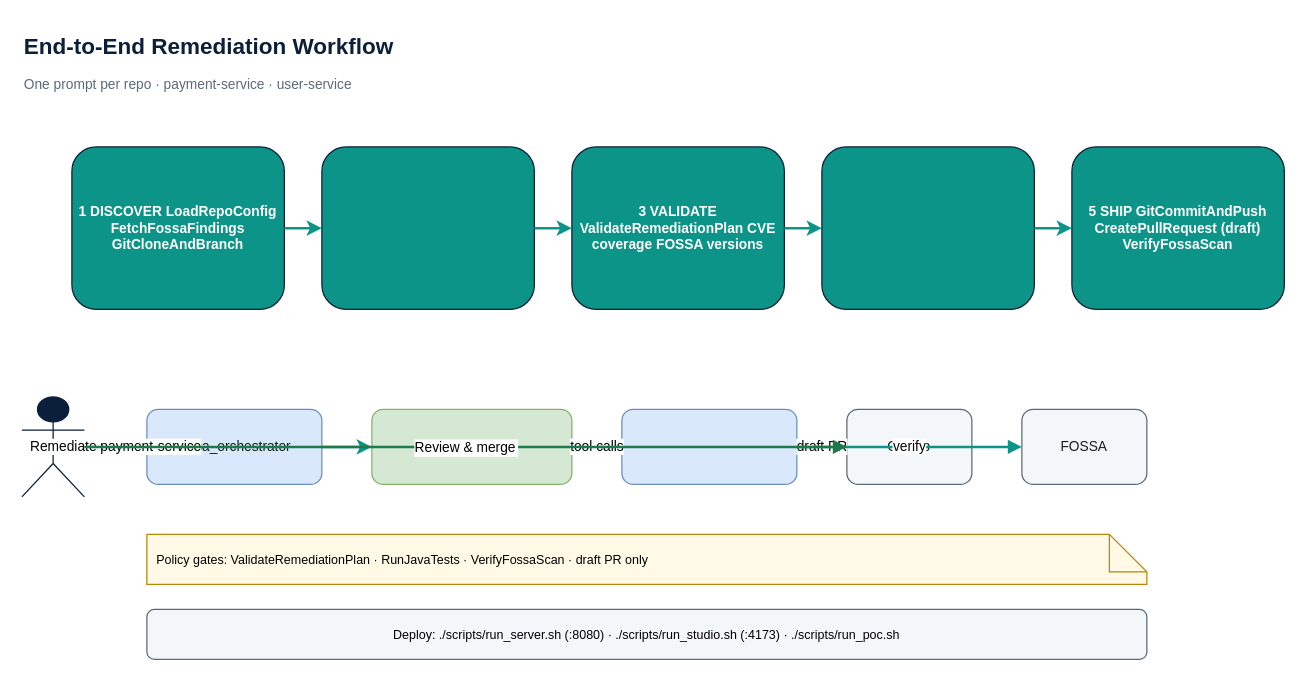
Some shapes in this 1306 by 681 pixel diagram are drawn without their labels. The shapes that lost their labels are listed below. From the top down, each one's centre as x and y in pixels, then its label:
At (x=427, y=227): "2 PLAN PrepareContext FetchDependencyTree SubmitRemediationPlan".
At (x=927, y=227): "4 EXECUTE ApplyDependencyFix CompileJava · RunJavaTests Self-heal (max 3)".
At (x=471, y=446): "remediation_pipeline".
At (x=709, y=446): "Coded Tools (Python)".
